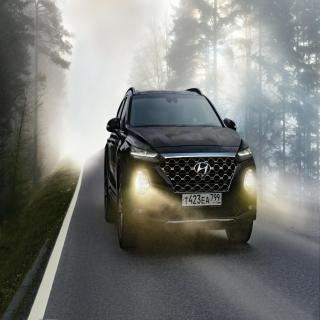Normal_vehicle: (102, 86, 259, 254)
